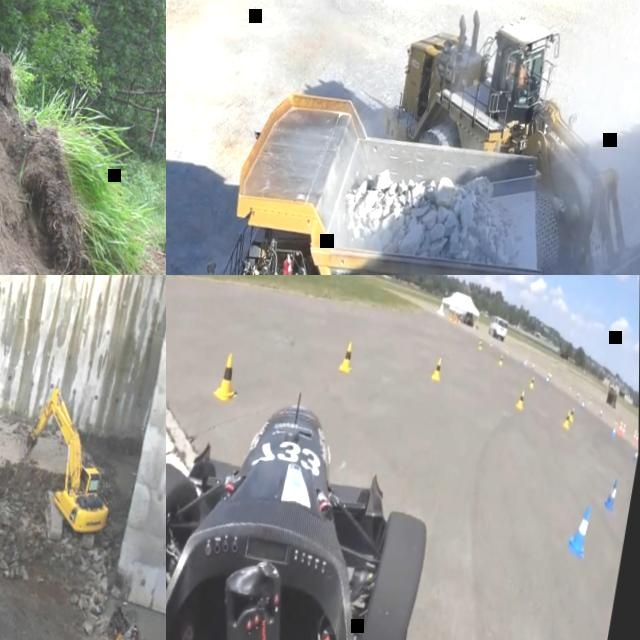Person: (508, 57, 532, 89), (114, 629, 126, 640)
Safety Cone: (213, 350, 247, 405), (564, 499, 595, 559), (337, 340, 356, 376), (604, 475, 620, 512), (431, 357, 448, 382), (515, 389, 529, 413), (562, 410, 573, 431), (568, 402, 577, 423), (528, 374, 536, 392), (497, 352, 506, 368), (631, 426, 638, 445), (632, 448, 639, 466), (618, 418, 624, 437), (477, 337, 485, 351), (621, 422, 627, 440), (611, 425, 617, 441), (635, 427, 639, 445), (490, 336, 495, 347)
Safety Vest: (508, 62, 529, 88)
machinery: (178, 75, 571, 275), (363, 0, 640, 275), (9, 380, 131, 554)
vehicle: (166, 367, 478, 640), (487, 313, 510, 340)
